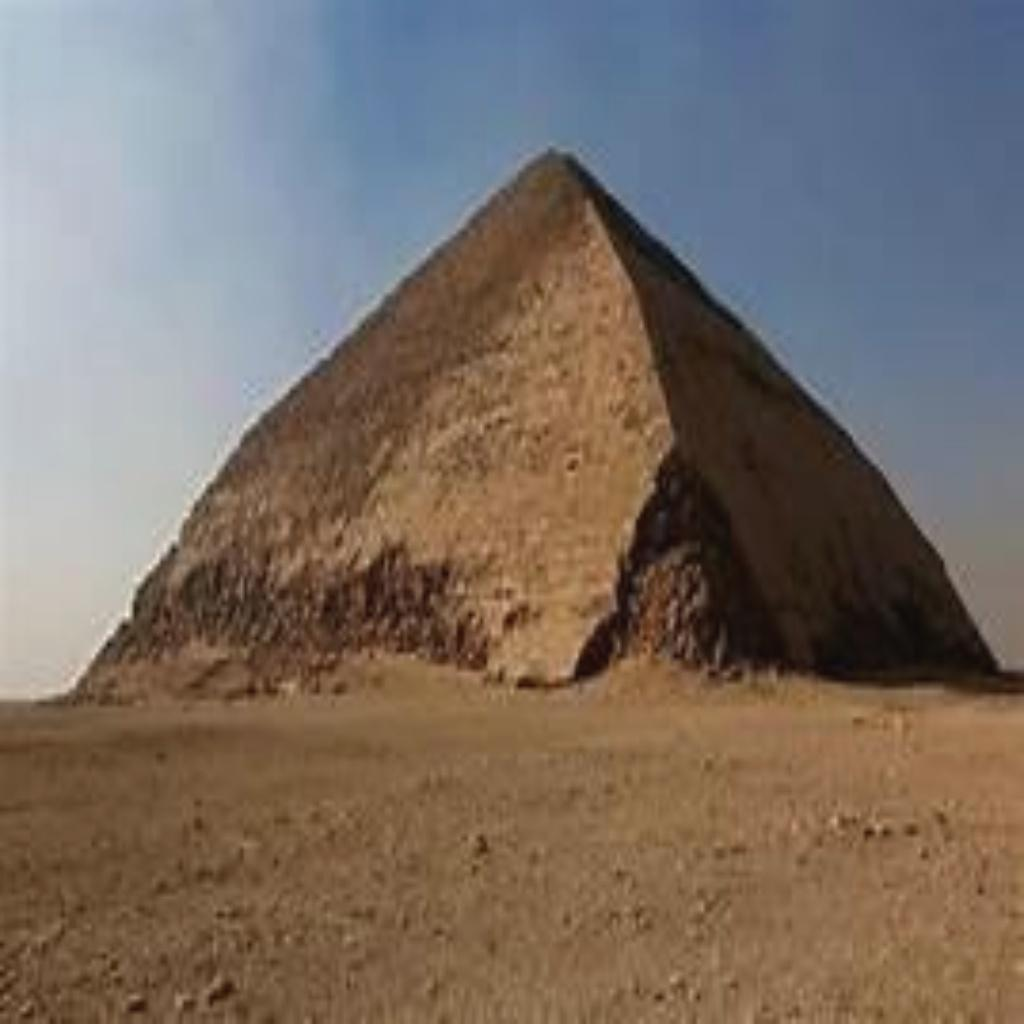Bent Pyramid of King Sneferu: (65, 136, 1001, 700)
